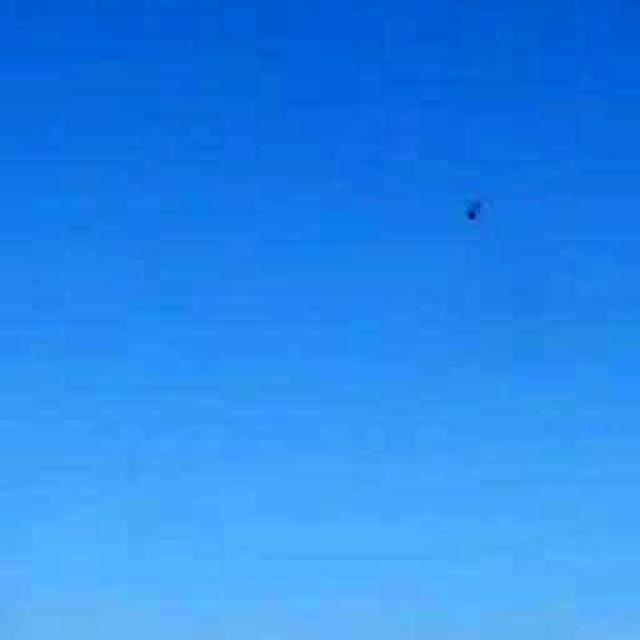drone: (442, 169, 499, 249)
